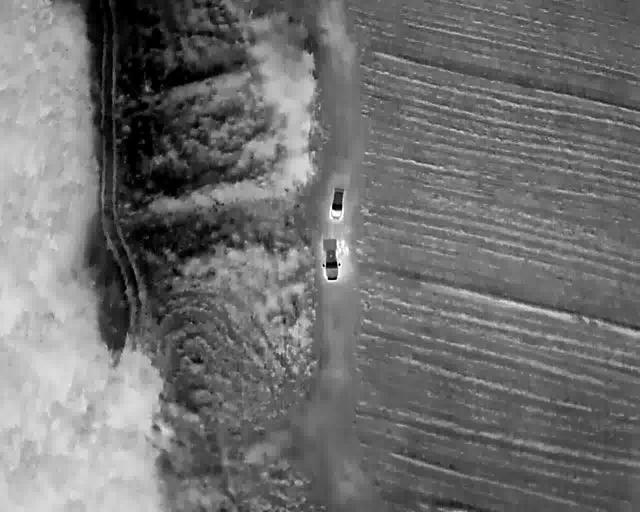car: (321, 238, 341, 280), (330, 188, 345, 222)
person: (340, 239, 345, 252), (344, 246, 349, 256)
